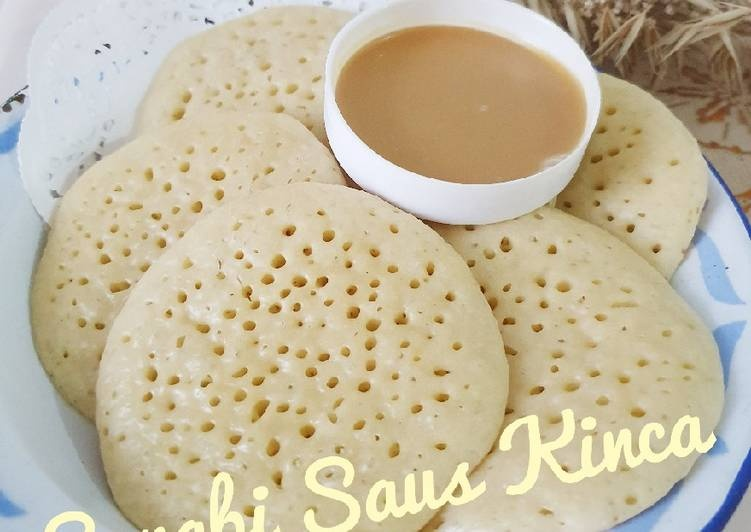srabi: (92, 168, 513, 525)
